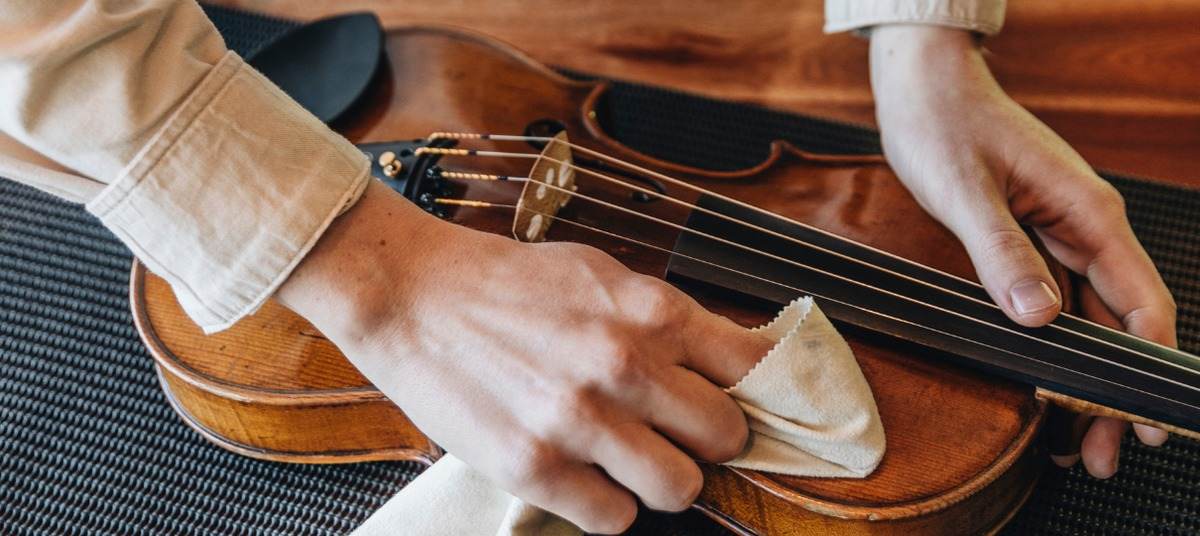Violin: (81, 27, 1200, 536)
